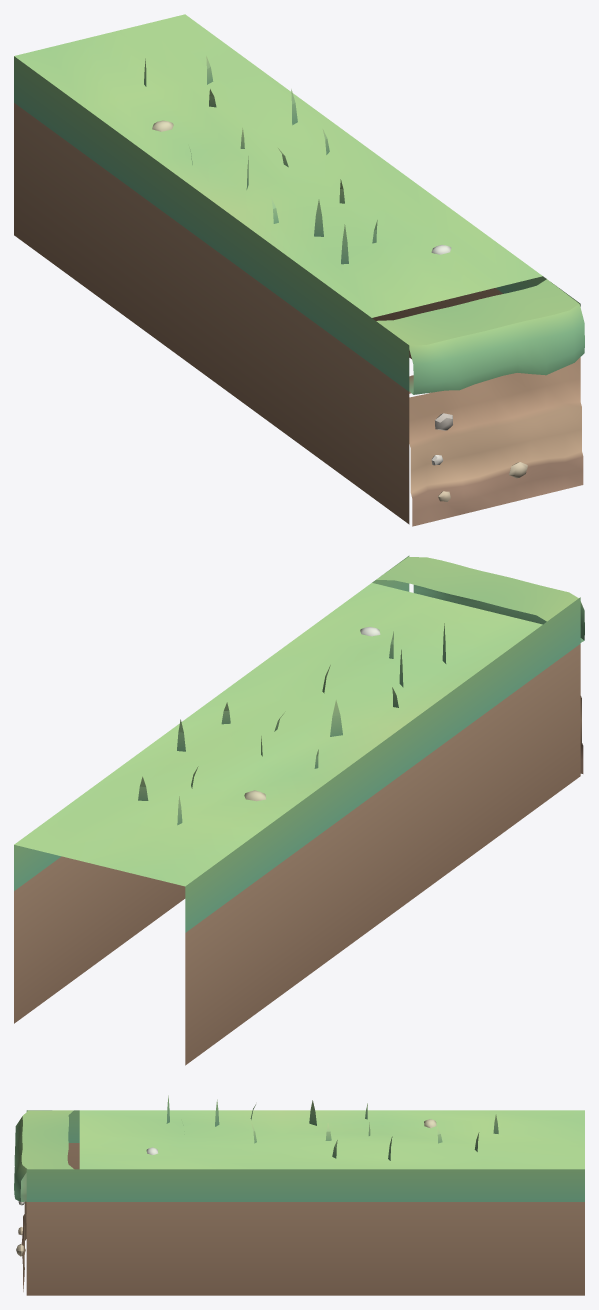
Rendered from ground_grass_4.glb.
3 renders of one model, top to bottom at view 1: azimuth 30°, elevation 25°; view 2: azimuth 150°, elevation 25°; view 3: azimuth 270°, elevation 25°, orthographic. The views are drawn at different scales.
Visible parts, largest first — view 1: ground_grass_4; view 2: ground_grass_4; view 3: ground_grass_4.
Boxes of the visible parts, box(x1,y1,x2,y2) form: ground_grass_4: box(14, 14, 584, 526); ground_grass_4: box(14, 555, 584, 1065); ground_grass_4: box(14, 1095, 584, 1295).
Bounding box in the file's own units: 1 × 1.22 × 4.09.
